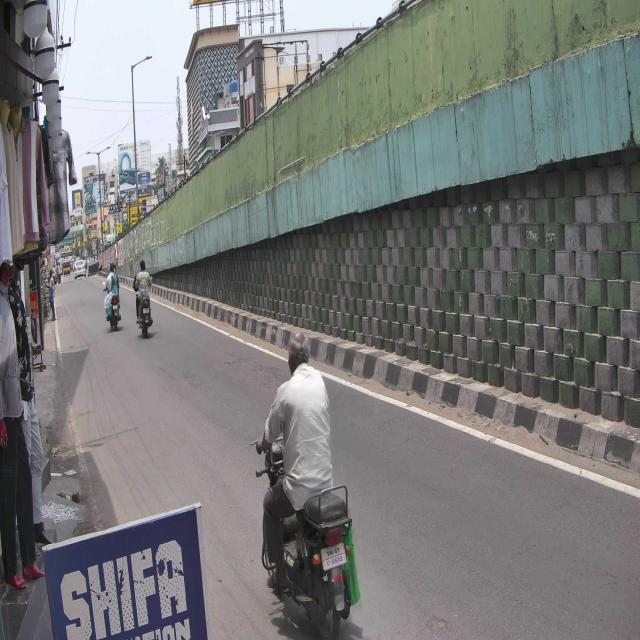single_rider: (251, 325, 361, 640)
